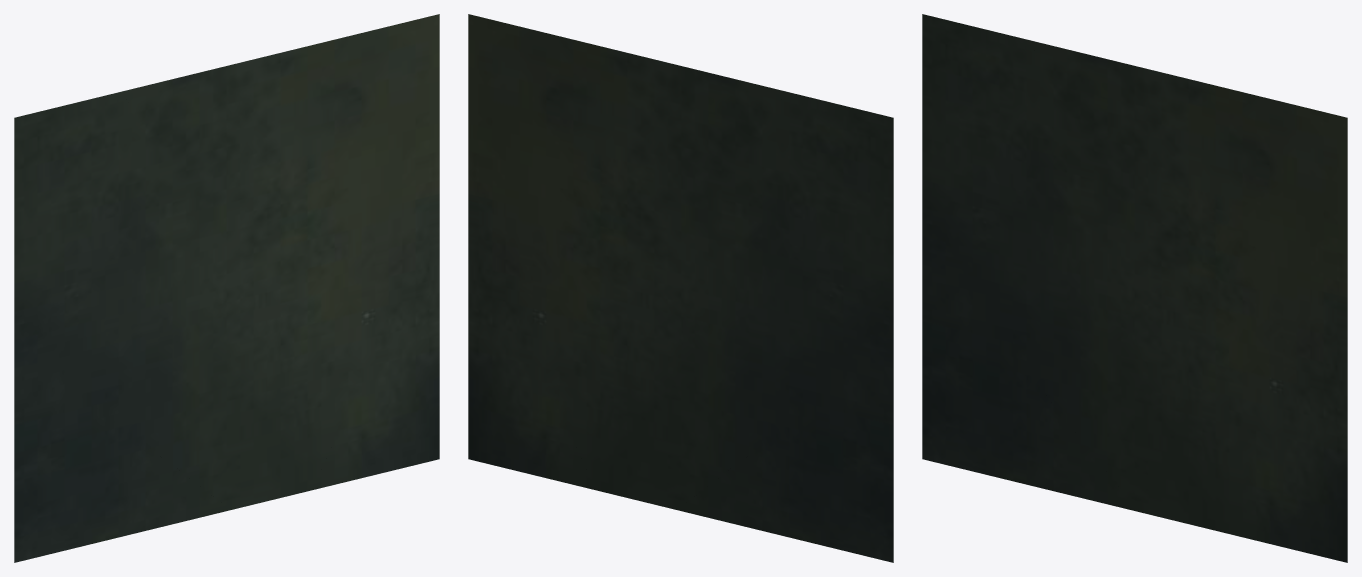
Rendered from Tile_+032_+024_L17_0002.glb.
3 renders of one model, left to right at view 1: azimuth 30°, elevation 25°; view 2: azimuth 150°, elevation 25°; view 3: azimuth 330°, elevation 25°, orthographic.
Bounding box in the file's own units: 126 × 126 × 0.
Materials: 1 (1 with a texture image).
